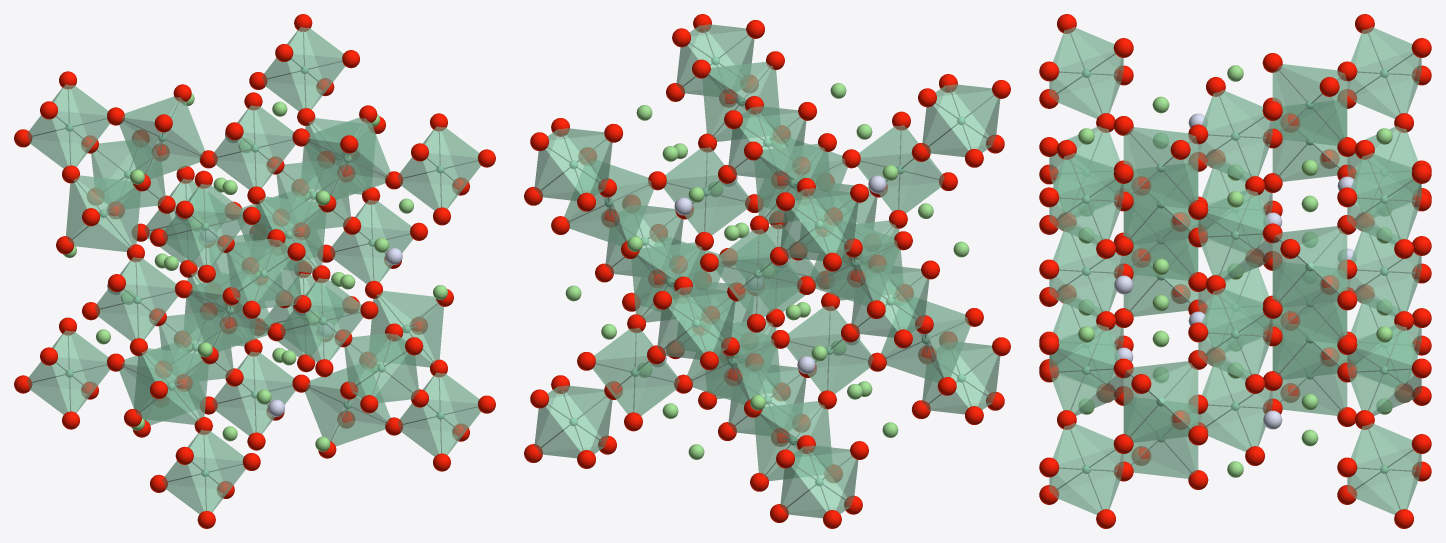
3 renders of one model, left to right at view 1: azimuth 30°, elevation 25°; view 2: azimuth 150°, elevation 25°; view 3: azimuth 270°, elevation 25°, orthographic. The views are drawn at different scales.
Visible parts, largest first — view 1: Shape_IndexedFaceSet.086, Shape_IndexedFaceSet.070, Shape_IndexedFaceSet.143, Shape_IndexedFaceSet.015, Shape_IndexedFaceSet.055, Shape_IndexedFaceSet.223, Shape_IndexedFaceSet.231, Shape_IndexedFaceSet.199, Shape_IndexedFaceSet.207, Shape_IndexedFaceSet.255, Shape_IndexedFaceSet.247, Shape_IndexedFaceSet.239 (+136 smaller); view 2: Shape_IndexedFaceSet.057, Shape_IndexedFaceSet.241, Shape_IndexedFaceSet.233, Shape_IndexedFaceSet.209, Shape_IndexedFaceSet.217, Shape_IndexedFaceSet.249, Shape_IndexedFaceSet.088, Shape_IndexedFaceSet.072, Shape_IndexedFaceSet.062, Shape_IndexedFaceSet.222, Shape_IndexedFaceSet.246, Shape_IndexedFaceSet.254 (+110 smaller); view 3: Shape_IndexedFaceSet.067, Shape_IndexedFaceSet.075, Shape_IndexedFaceSet.010, Shape_IndexedFaceSet.130, Shape_IndexedFaceSet.202, Shape_IndexedFaceSet.210, Shape_IndexedFaceSet.218, Shape_IndexedFaceSet.234, Shape_IndexedFaceSet.163, Shape_IndexedFaceSet.194, Shape_IndexedFaceSet.250, Shape_IndexedFaceSet.050 (+131 smaller).
Part boxes in pixels (<box>): Shape_IndexedFaceSet.086: <box>229,245,290,302</box>; Shape_IndexedFaceSet.070: <box>347,339,408,396</box>; Shape_IndexedFaceSet.143: <box>120,284,177,339</box>; Shape_IndexedFaceSet.015: <box>237,132,295,187</box>; Shape_IndexedFaceSet.055: <box>305,305,363,360</box>; Shape_IndexedFaceSet.223: <box>287,54,344,109</box>; Shape_IndexedFaceSet.231: <box>188,456,245,512</box>; Shape_IndexedFaceSet.199: <box>423,399,480,454</box>; Shape_IndexedFaceSet.207: <box>423,153,480,208</box>; Shape_IndexedFaceSet.255: <box>52,111,109,166</box>; Shape_IndexedFaceSet.247: <box>52,357,109,412</box>; Shape_IndexedFaceSet.239: <box>188,210,245,265</box>; Shape_IndexedFaceSet.057: <box>668,293,732,352</box>; Shape_IndexedFaceSet.241: <box>791,451,855,511</box>; Shape_IndexedFaceSet.233: <box>933,90,997,150</box>; Shape_IndexedFaceSet.209: <box>546,391,609,451</box>; Shape_IndexedFaceSet.217: <box>546,134,609,194</box>; Shape_IndexedFaceSet.249: <box>791,194,855,254</box>; Shape_IndexedFaceSet.088: <box>715,257,775,315</box>; Shape_IndexedFaceSet.072: <box>592,356,652,413</box>; Shape_IndexedFaceSet.062: <box>660,294,723,353</box>; Shape_IndexedFaceSet.222: <box>537,135,600,194</box>; Shape_IndexedFaceSet.246: <box>783,453,846,511</box>; Shape_IndexedFaceSet.254: <box>783,195,846,254</box>; Shape_IndexedFaceSet.067: <box>1051,348,1115,413</box>; Shape_IndexedFaceSet.075: <box>1349,348,1413,413</box>; Shape_IndexedFaceSet.010: <box>1206,114,1270,178</box>; Shape_IndexedFaceSet.130: <box>1206,312,1270,376</box>; Shape_IndexedFaceSet.202: <box>1057,177,1121,241</box>; Shape_IndexedFaceSet.210: <box>1355,447,1419,512</box>; Shape_IndexedFaceSet.218: <box>1355,177,1419,241</box>; Shape_IndexedFaceSet.234: <box>1057,51,1121,115</box>; Shape_IndexedFaceSet.163: <box>1200,213,1264,277</box>; Shape_IndexedFaceSet.194: <box>1057,447,1121,512</box>; Shape_IndexedFaceSet.250: <box>1355,51,1419,115</box>; Shape_IndexedFaceSet.050: <box>1057,252,1121,313</box>.
Bounding box in the file's own units: 1375 × 1375 × 1375.
